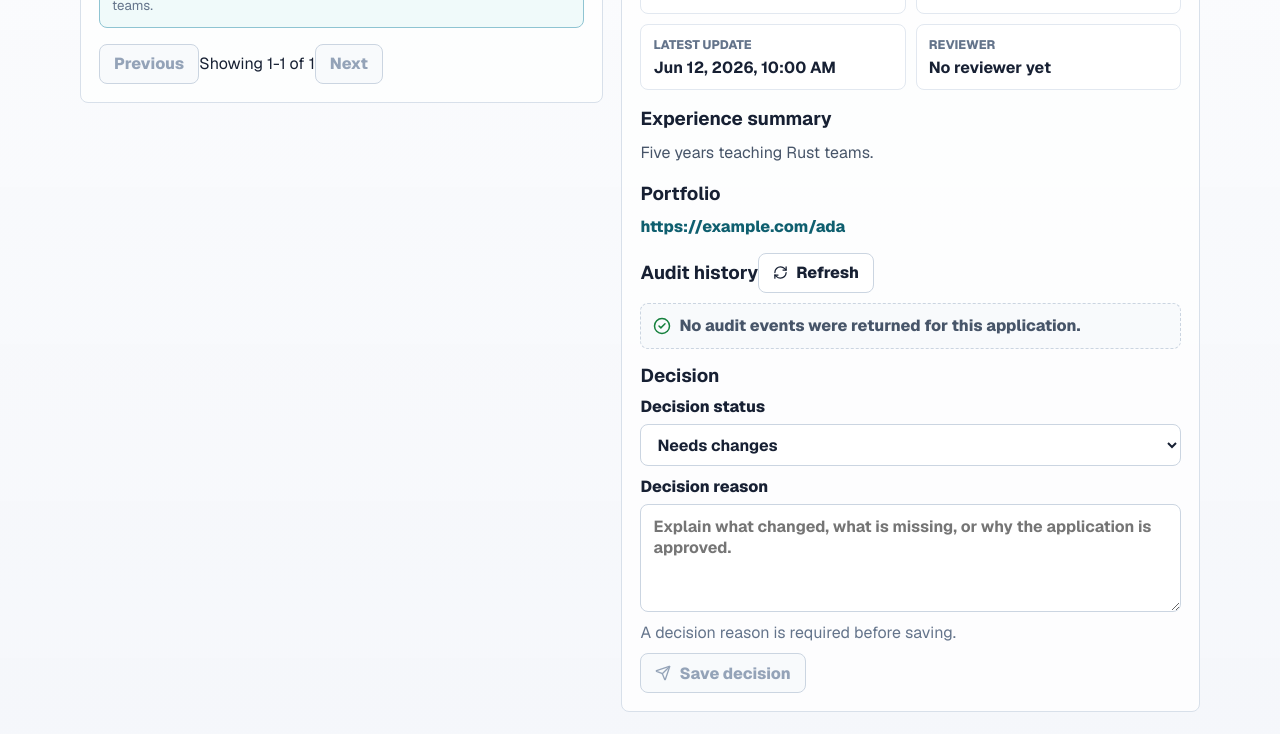
AdminTeacherApplicationsRoute › refreshes application data when the decision conflicts
(page scrolled)
Type "Needs stronger portfolio" into the text box labelled "Decision reason".
click(911, 558); type("Needs stronger portfolio")  # box 640,504 -> 1181,612
(page scrolled)
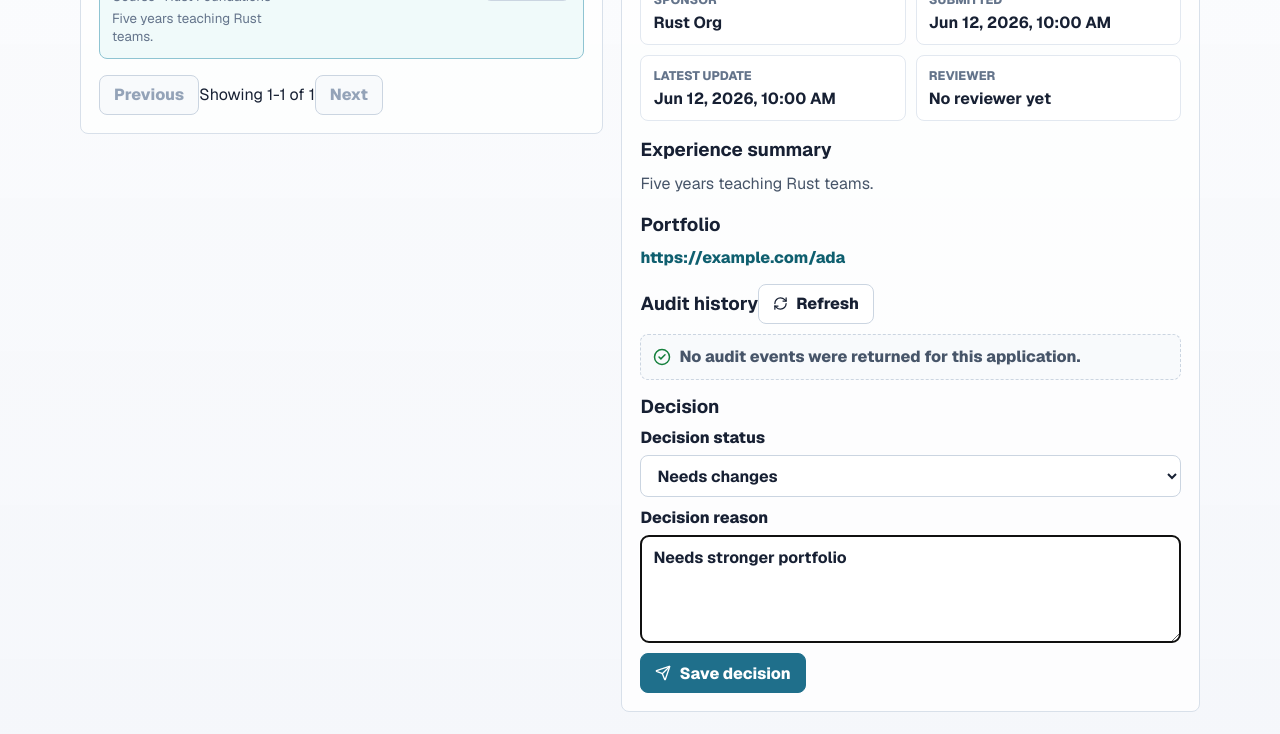
Click the button "Save decision".
click(723, 673)  # box 640,653 -> 806,693
(page scrolled)
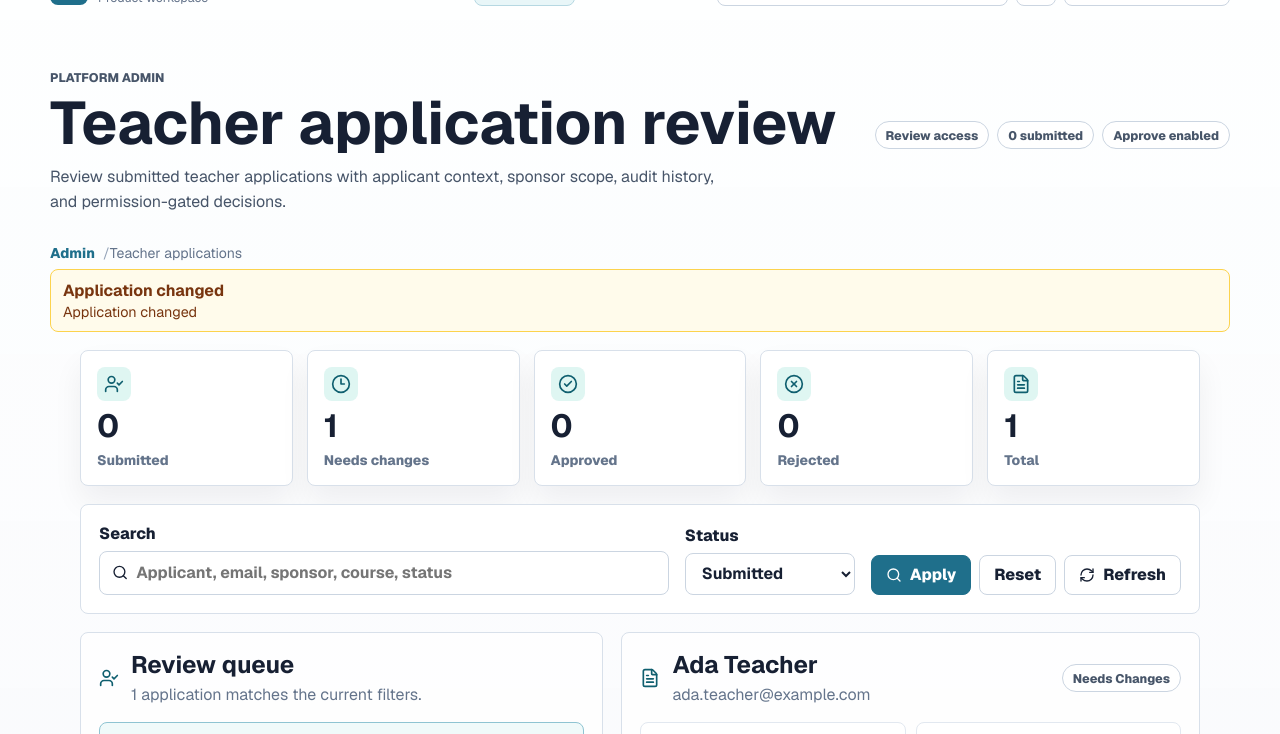
Check: the 1st text "Application changed" is shown, box 63,280 -> 224,301
